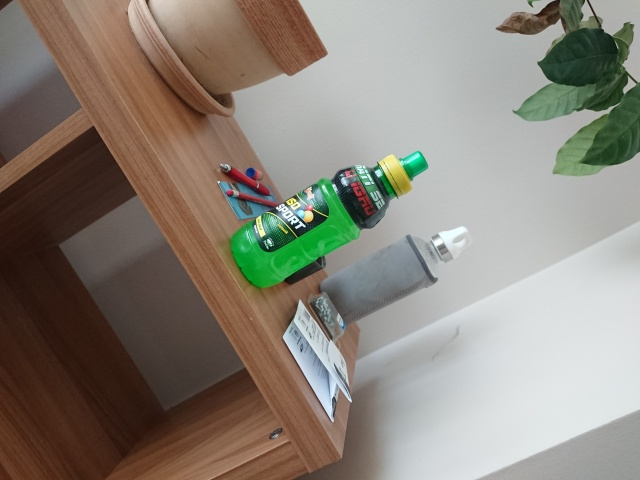Vindi Iso Sport Lemon-Grapefruit 500mL: (227, 149, 430, 291)
